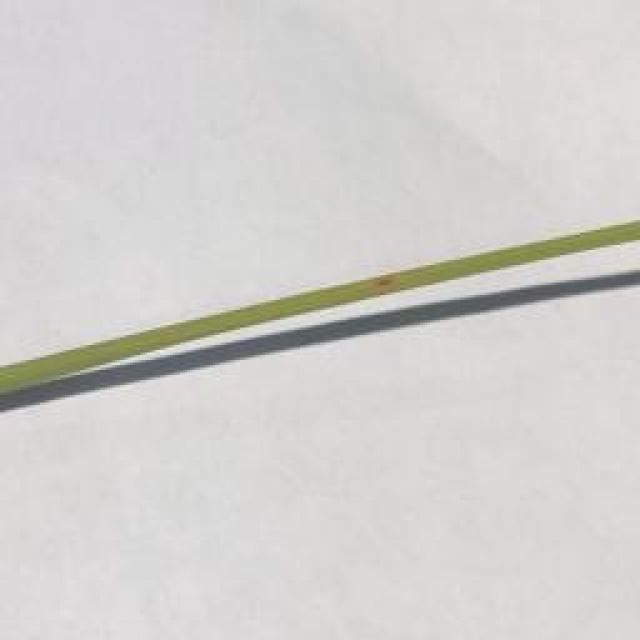Brown_Spot: (367, 266, 402, 304)
